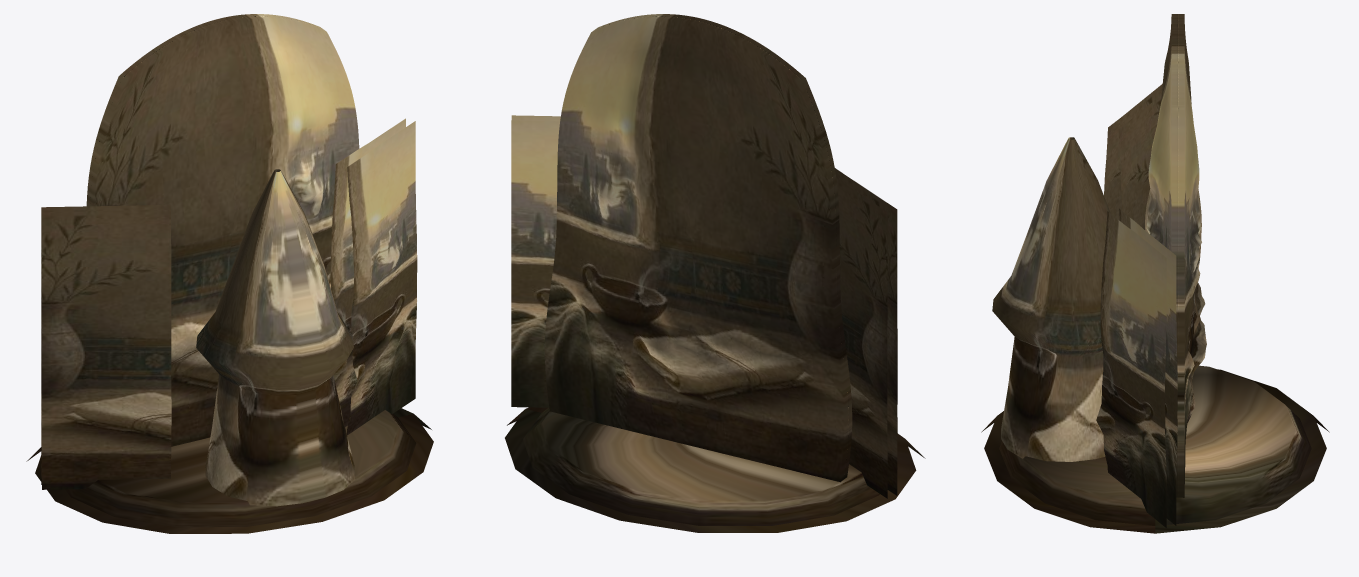
File: a-future-and-a-hope-24.glb
3 views of the same model, side by side, from view 1: azimuth 30°, elevation 25°; view 2: azimuth 150°, elevation 25°; view 3: azimuth 270°, elevation 25° (orthographic). The views are drawn at different scales.
Visible parts, largest first — view 1: PaintingSculptureMonument; view 2: PaintingSculptureMonument; view 3: PaintingSculptureMonument.
Boxes of the visible parts, x1,y1,x2,y2 form: PaintingSculptureMonument: (26,14,433,533); PaintingSculptureMonument: (505,14,925,532); PaintingSculptureMonument: (981,14,1329,533).
Size of the model in its own units: 2.76 by 2.99 by 2.35.
Materials: 1 (1 with a texture image).
